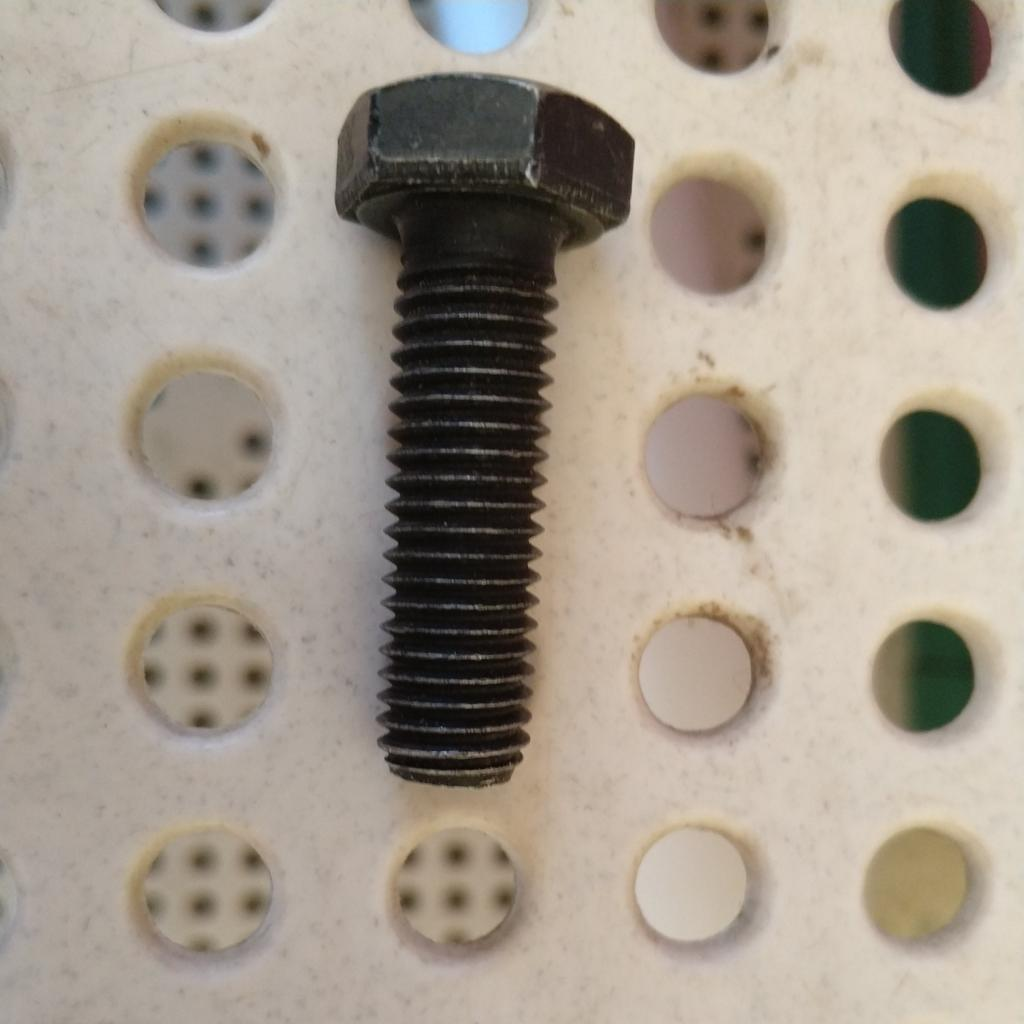screwtype2black: (322, 61, 647, 799)
